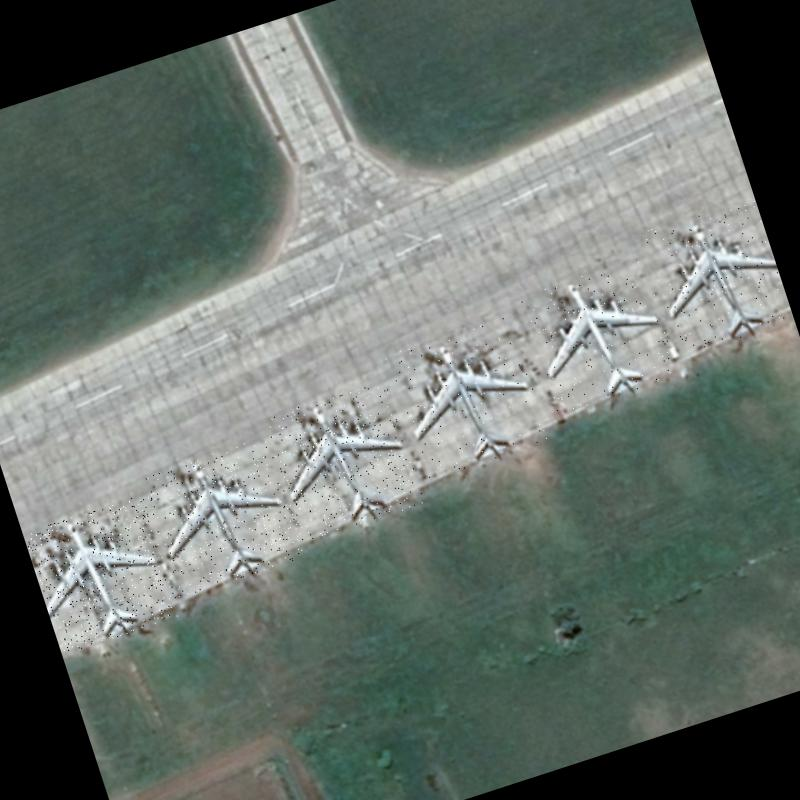A17: (384, 315, 552, 484), (261, 378, 425, 544), (140, 436, 306, 598), (519, 256, 681, 415), (24, 494, 182, 654), (641, 195, 794, 358)
